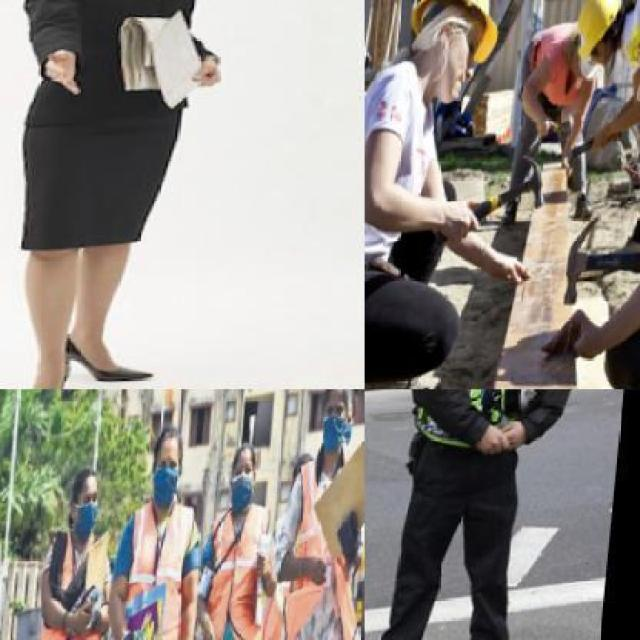Vest: (285, 466, 363, 639), (118, 504, 202, 638), (202, 506, 282, 639), (432, 389, 558, 466), (42, 538, 118, 638)
